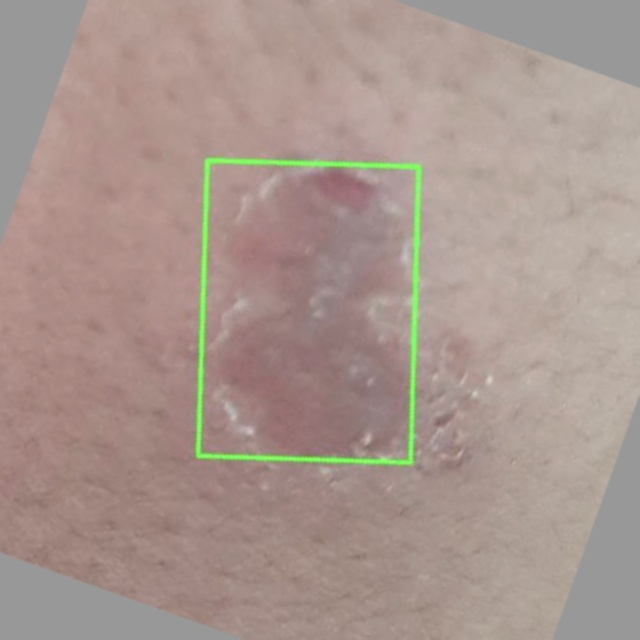Tinea Corporis: (198, 160, 418, 462)
